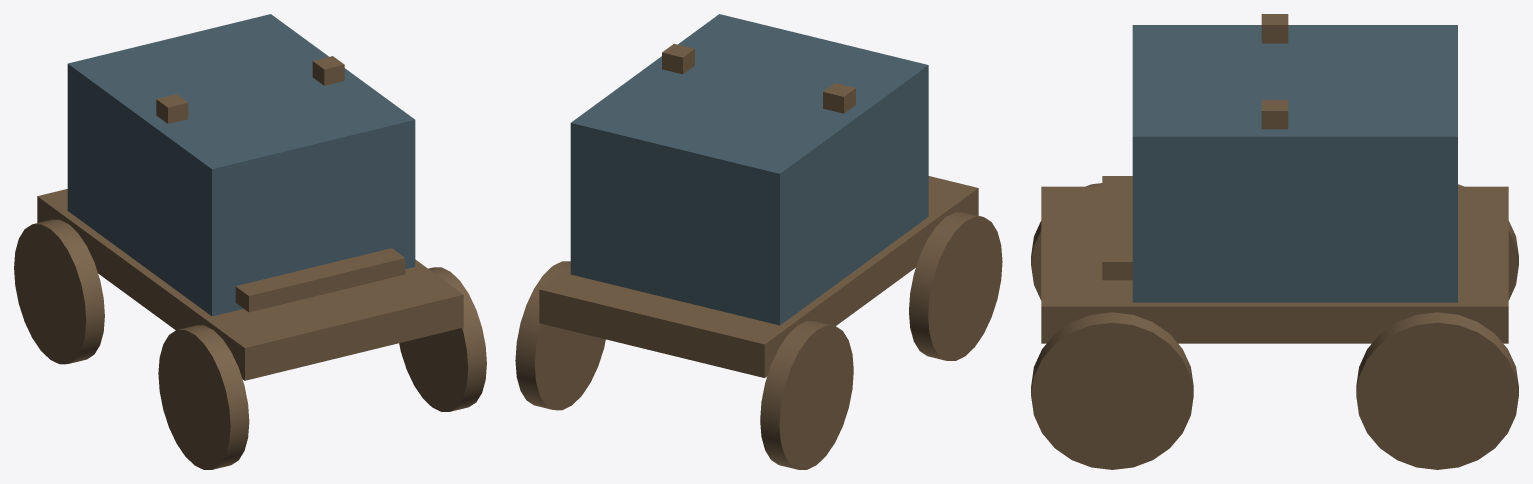
Rendered from trader.glb.
3 views of the same model, side by side, from view 1: azimuth 30°, elevation 25°; view 2: azimuth 150°, elevation 25°; view 3: azimuth 270°, elevation 25° (orthographic). The views are drawn at different scales.
Visible parts, largest first — view 1: Vehicle; view 2: Vehicle; view 3: Vehicle.
Boxes of the visible parts, box(x1,y1,x2,y2) form: Vehicle: box(14, 14, 486, 469); Vehicle: box(515, 14, 1002, 469); Vehicle: box(1031, 14, 1518, 469).
Size of the model in its own units: 1.64 by 1.83 by 2.4.
